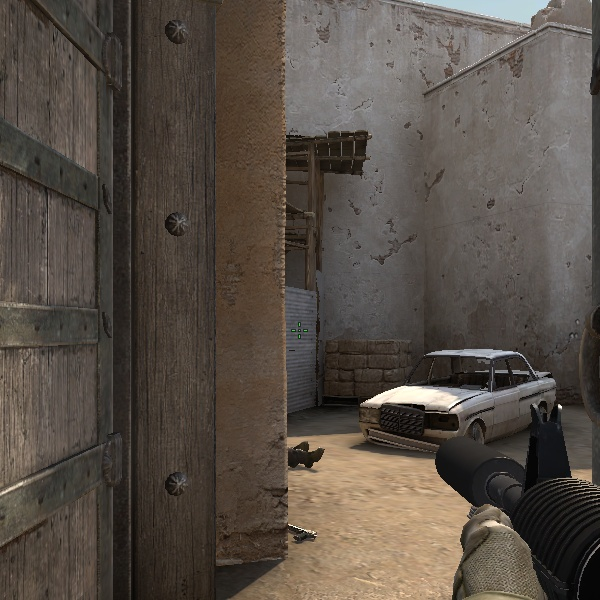ct_body: (222, 403, 592, 597)
